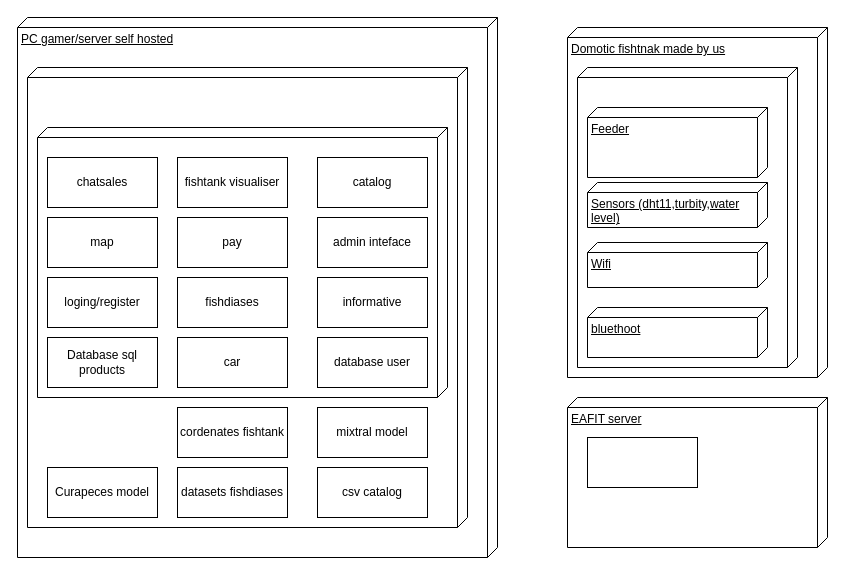
The diagram is 845 pixels wide and 575 high, and some of its shapes have lost their labels. The shapes that lost their labels are listed below. From the top down, each one's box as (x1, y1, x2, y2) in pixels, then its label:
(576, 66, 798, 368): Esp32
(36, 126, 448, 398): Django
(26, 66, 468, 528): pop os linux
(586, 436, 698, 488): influx db
